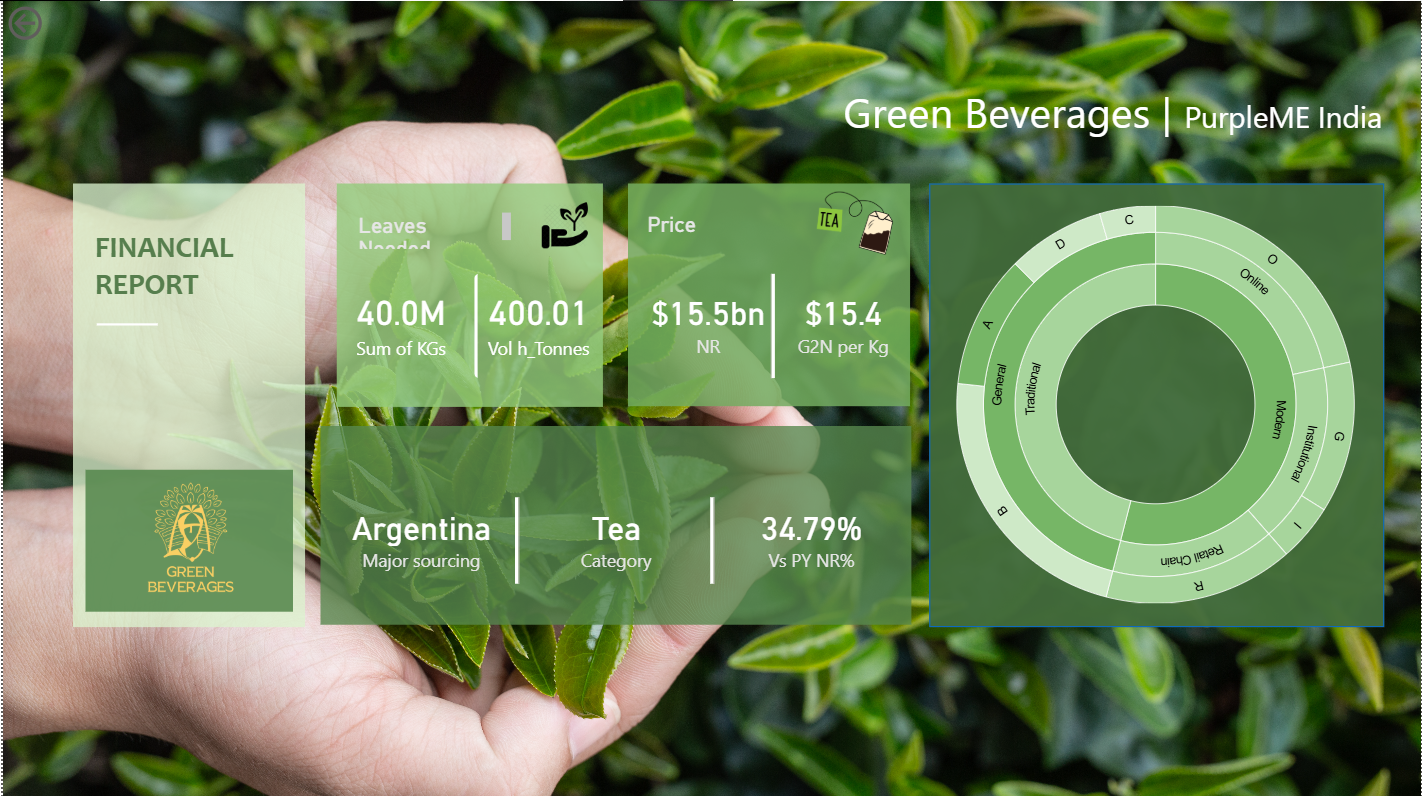

What the dashboard file says about the page in this screenshot:
{"tool":"powerbi","page":{"name":"Page 1","canvas":[1280,720],"ordinal":0},"visuals":[{"type":"image","box":[0,0,1280,720],"z":0},{"type":"shape","box":[63.6,164.1,209.2,400],"z":1000},{"type":"shape","box":[301.4,164.3,240,201.4],"z":2000},{"type":"shape","box":[564.1,164.1,254.4,201],"z":3000},{"type":"shape","box":[834.9,164.1,410.3,400],"z":4000},{"type":"shape","box":[286.5,382.9,532.9,179.4],"z":5000},{"type":"shape","box":[74.6,423.1,187.1,128.4],"z":6000},{"type":"image","box":[75,423.1,187.4,128.5],"z":7000},{"type":"textbox","box":[77.5,200.8,150,80],"z":8000},{"type":"shape","box":[85,260,55,62.5],"z":9000},{"type":"cardVisual","fields":{"Data":["Sum(Sales.KGs)","Area.Vol h_Tonnes"]},"box":[301.4,241.4,240,104.3],"z":10000},{"type":"cardVisual","title":"Price","fields":{"Data":["Sum(Sales.NR)","Area.G2N per Kg"]},"box":[565.7,241.4,254.3,104.3],"z":11000},{"type":"actionButton","box":[0,0,100,40],"z":12000},{"type":"Sunburst1445472000808","fields":{"Nodes":["Customer.Trade Type","Customer Grade.Customer Type","Customer.Grade"],"Values":["Sum(Sales.KGs)"]},"box":[834.3,164.3,410,398.6],"z":13000},{"type":"cardVisual","fields":{"Data":["Min(Sales.city)","Max(Product.Category)","Sales.Vs PY NR%"]},"box":[290,422.9,528.6,128.6],"z":14000},{"type":"image","box":[485.7,175.7,41.4,52.9],"z":15000},{"type":"image","box":[734.3,162.9,68.6,75.7],"z":16000},{"type":"textbox","box":[575.7,185.7,64.3,42.9],"z":17000},{"type":"textbox","box":[315.7,185.7,147.1,42.9],"z":18000},{"type":"textbox","box":[753.3,63.3,508.3,101.7],"z":19000}]}

Visuals, with their boxes in screenshot pixels (x1, y1, x2, y2), scaled from the page's 1280x720 canvas onto the 1422x796 screenshot:
image: {"x1": 0, "y1": 0, "x2": 1421, "y2": 795}
shape: {"x1": 71, "y1": 181, "x2": 303, "y2": 624}
shape: {"x1": 335, "y1": 182, "x2": 601, "y2": 404}
shape: {"x1": 627, "y1": 181, "x2": 909, "y2": 404}
shape: {"x1": 928, "y1": 181, "x2": 1383, "y2": 624}
shape: {"x1": 318, "y1": 423, "x2": 910, "y2": 622}
shape: {"x1": 83, "y1": 468, "x2": 291, "y2": 610}
image: {"x1": 83, "y1": 468, "x2": 292, "y2": 610}
textbox: {"x1": 86, "y1": 222, "x2": 253, "y2": 310}
shape: {"x1": 94, "y1": 287, "x2": 156, "y2": 357}
cardVisual - Sum(Sales.KGs) x Area.Vol h_Tonnes: {"x1": 335, "y1": 267, "x2": 601, "y2": 382}
"Price" cardVisual: {"x1": 628, "y1": 267, "x2": 911, "y2": 382}
actionButton: {"x1": 0, "y1": 0, "x2": 111, "y2": 44}
Sunburst1445472000808 - Customer.Trade Type x Customer Grade.Customer Type: {"x1": 927, "y1": 182, "x2": 1382, "y2": 622}
cardVisual - Min(Sales.city) x Max(Product.Category): {"x1": 322, "y1": 468, "x2": 909, "y2": 610}
image: {"x1": 540, "y1": 194, "x2": 586, "y2": 253}
image: {"x1": 816, "y1": 180, "x2": 892, "y2": 264}
textbox: {"x1": 640, "y1": 205, "x2": 711, "y2": 253}
textbox: {"x1": 351, "y1": 205, "x2": 514, "y2": 253}
textbox: {"x1": 837, "y1": 70, "x2": 1402, "y2": 182}
